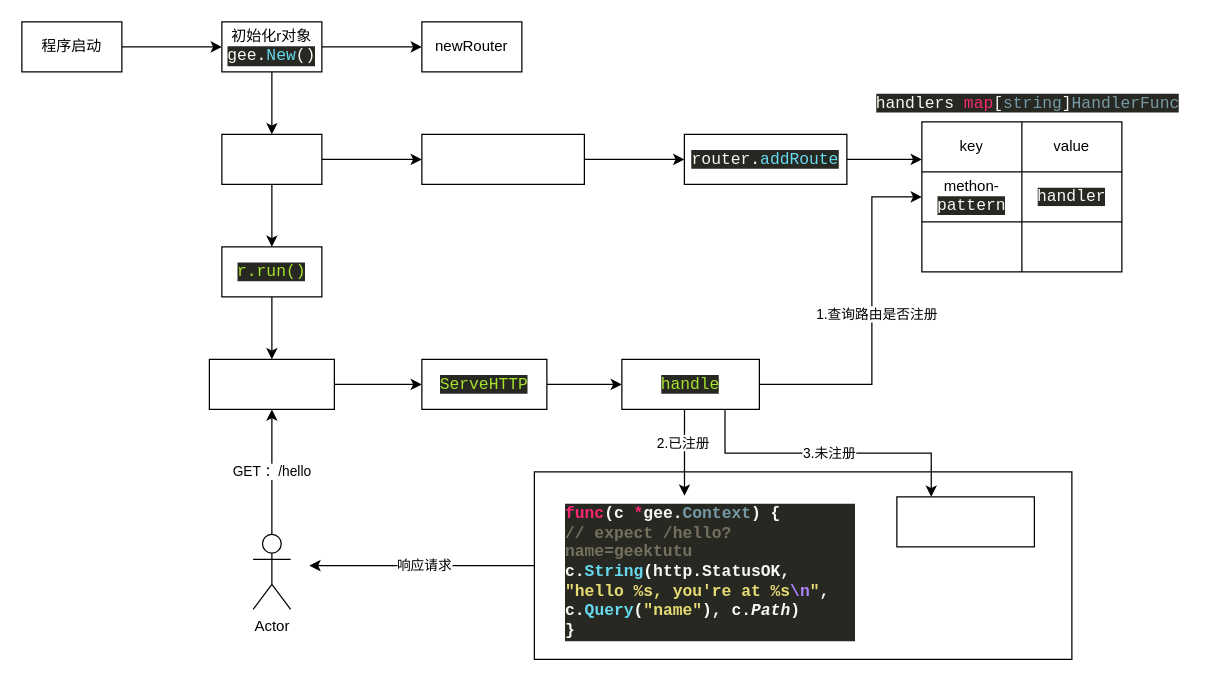
This 1231x681 diagram has some shape labels left out. The box of each missing label's shape, as (x1, y1, x2, y2) in pixels:
404，NOT FOUNT: (896, 496, 1034, 547)
engine. addRoute: (421, 133, 584, 184)
r.GET: (221, 133, 322, 184)
监听9090端口: (208, 358, 334, 409)
